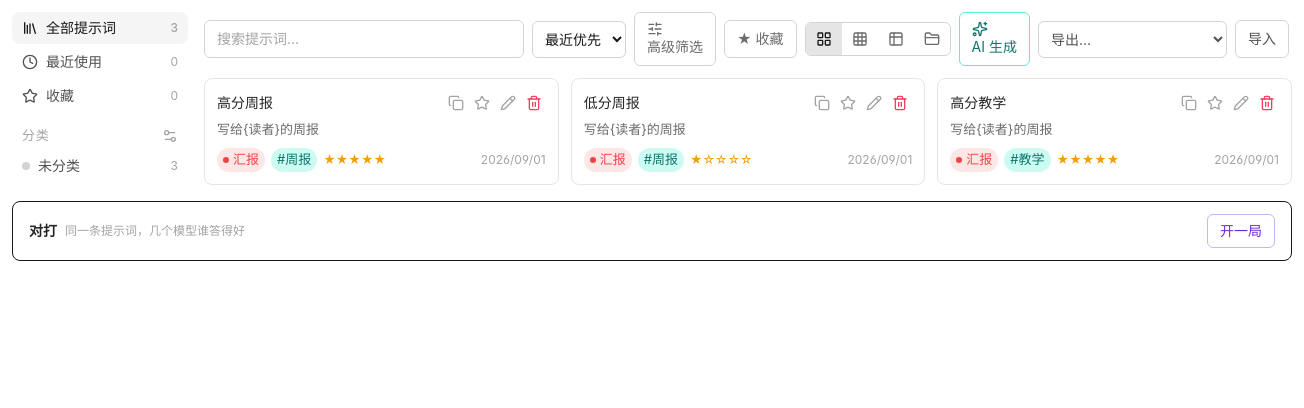
Test: PromptLibrary · 左导航与排序 › 高级筛选：标签与评分一起算，并给得出「清空」
Check: the button "高分周报" is shown, box [217,93,440,113]
Click the button "高级筛选": (675, 39) [634,12,716,66]
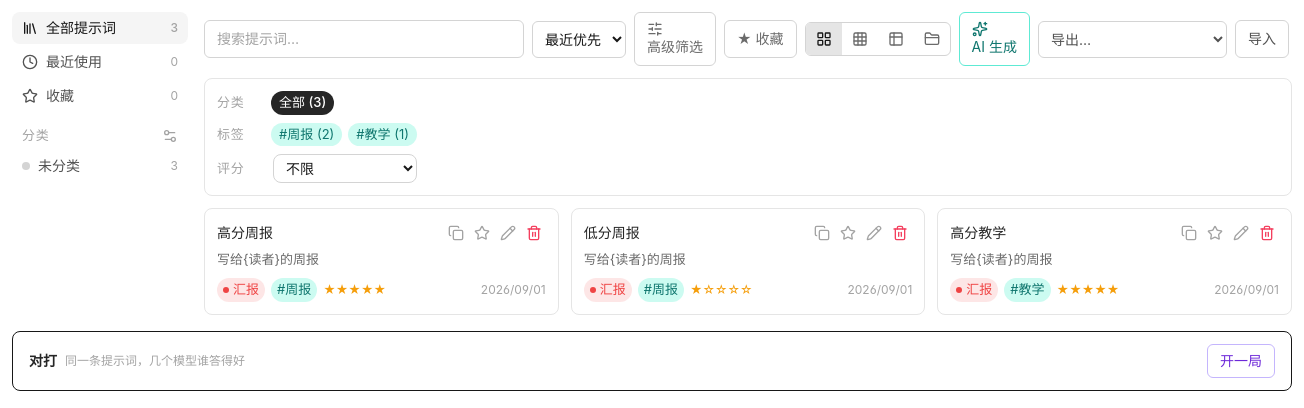
Click the button "#周报 (2)": (307, 134) [271,122,342,146]
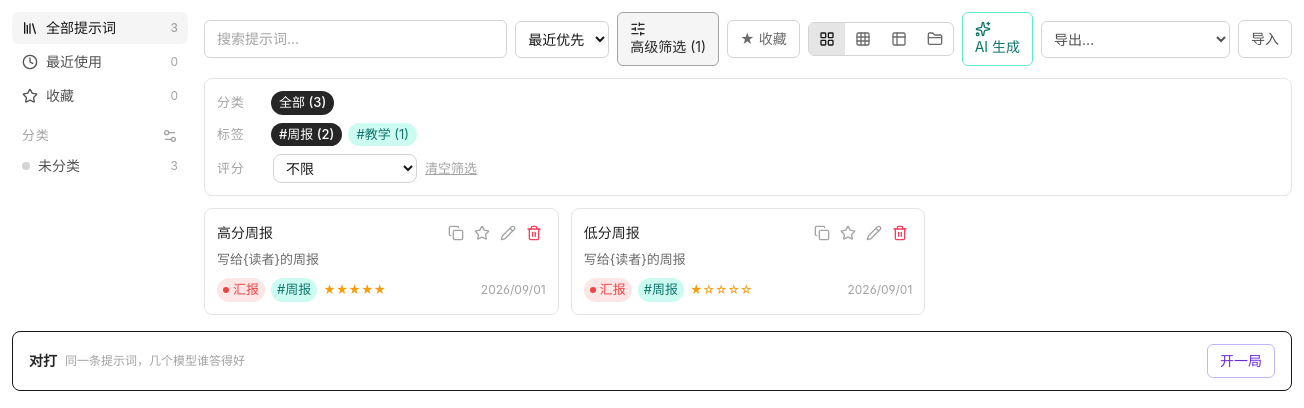
Select "★★★★★ 以上" in the dropdown named "最低评分": (345, 168) [273,154,417,183]
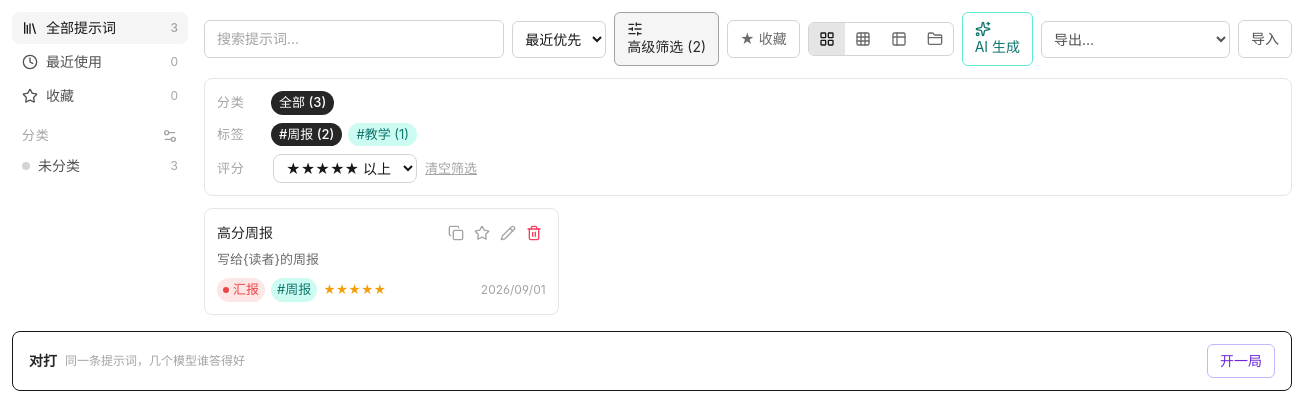
Check: the button "高分周报" is shown, box [217,223,440,243]
Check: the button "低分周报" is gone
Click the button "清空筛选": (451, 169) [425,159,477,178]
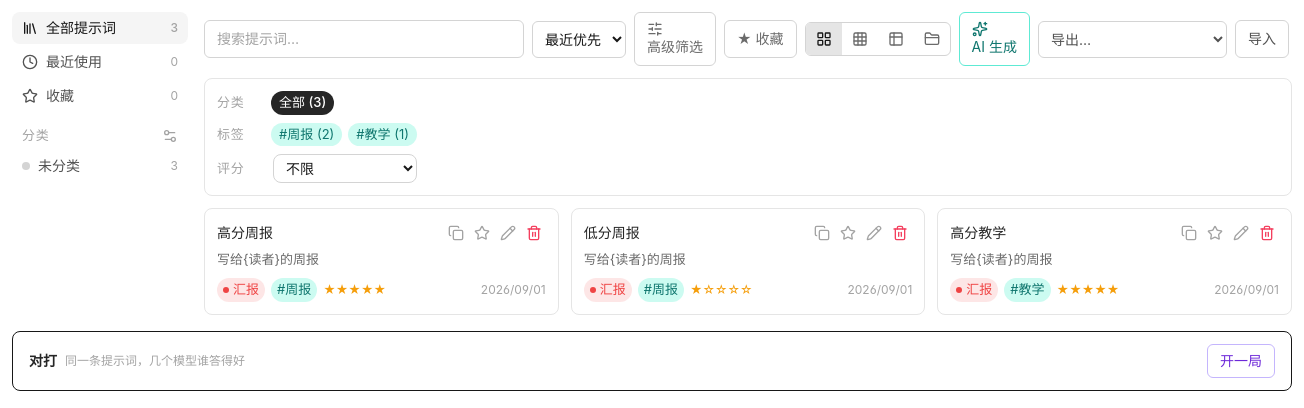
Check: the button "低分周报" is shown, box [584,223,806,243]
